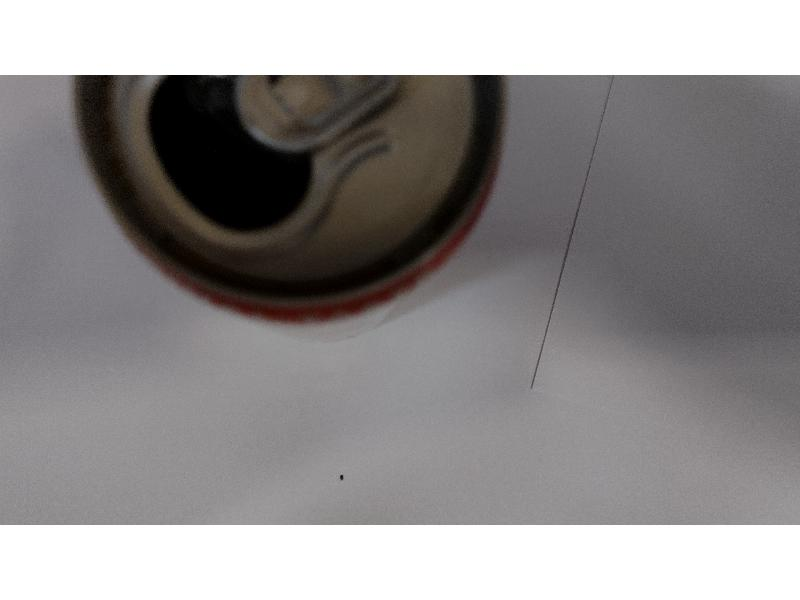can: (52, 73, 536, 350)
